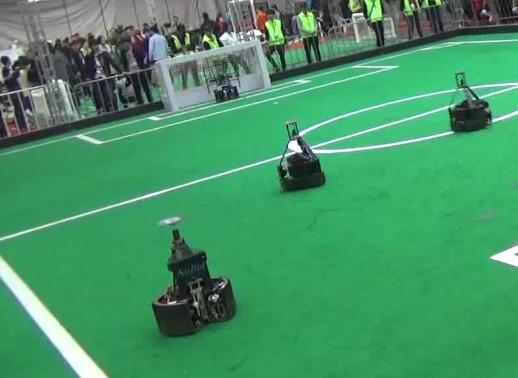robot: (141, 218, 243, 339), (273, 120, 333, 193), (443, 65, 500, 135)
